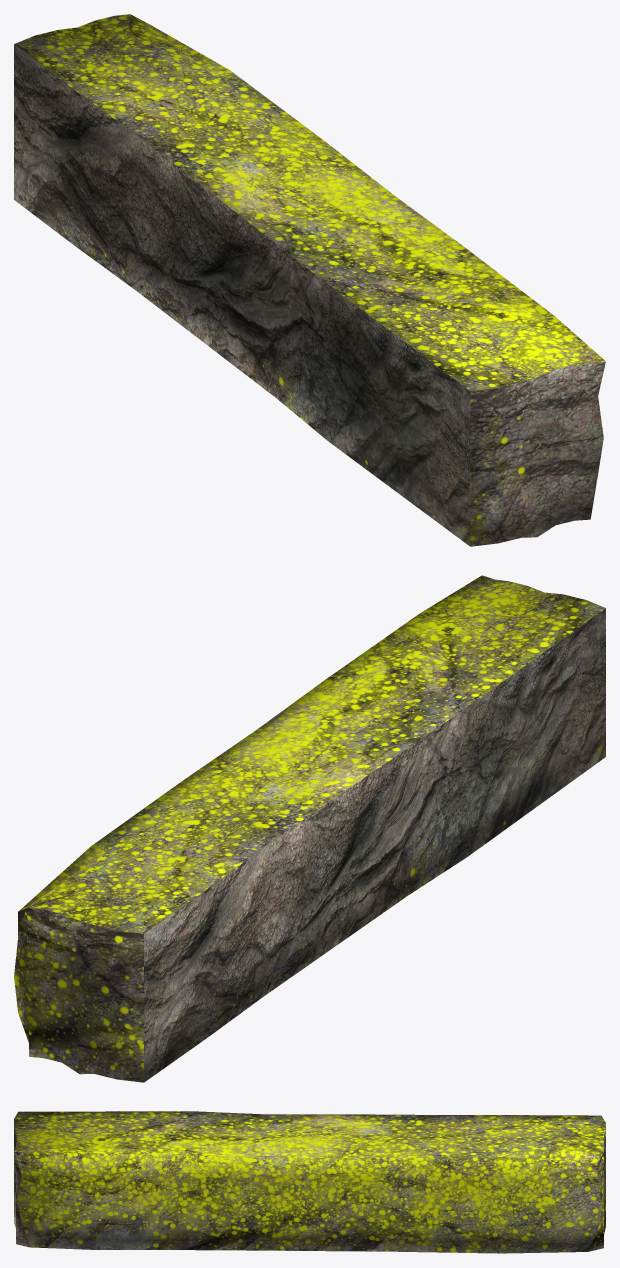
File: CaveLedge.fbx
The picture shows the model from 3 angles, top to bottom: view 1: azimuth 30°, elevation 25°; view 2: azimuth 150°, elevation 25°; view 3: azimuth 270°, elevation 25°; orthographic projection. The views are drawn at different scales.
Parts seen in each view (by area): view 1: CaveLedge; view 2: CaveLedge; view 3: CaveLedge.
Part boxes in pixels (box(x1,y1,x2,y2)): CaveLedge: box(14, 14, 605, 546); CaveLedge: box(14, 575, 605, 1082); CaveLedge: box(14, 1111, 605, 1253).
Bounding box in the file's own units: 44.85 × 45.95 × 242.
